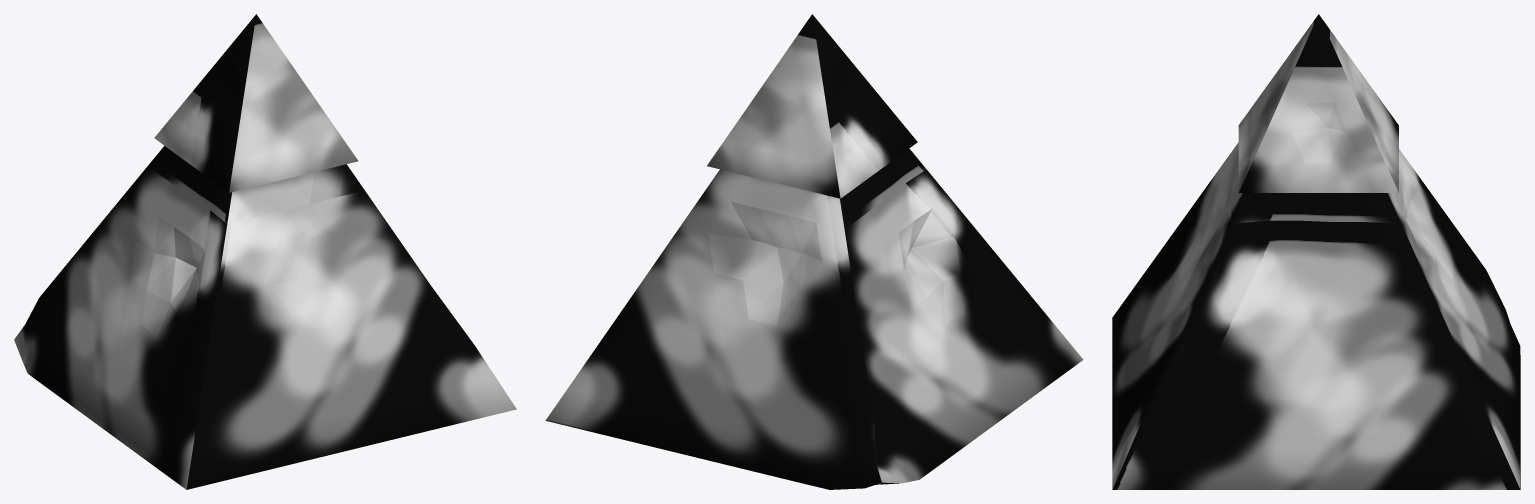
3 views of the same model, side by side, from view 1: azimuth 30°, elevation 25°; view 2: azimuth 150°, elevation 25°; view 3: azimuth 270°, elevation 25° (orthographic). The views are drawn at different scales.
Visible parts, largest first — view 1: Base, Top; view 2: Base, Top; view 3: Base, Top.
Boxes of the visible parts, <box> form: Base: <box>14,146,516,489</box>; Top: <box>154,14,358,192</box>; Base: <box>545,148,1083,489</box>; Top: <box>707,14,917,198</box>; Base: <box>1112,142,1520,489</box>; Top: <box>1238,14,1398,192</box>.
Size of the model in its own units: 2 by 2.11 by 2.
1 material, 1 textured.
